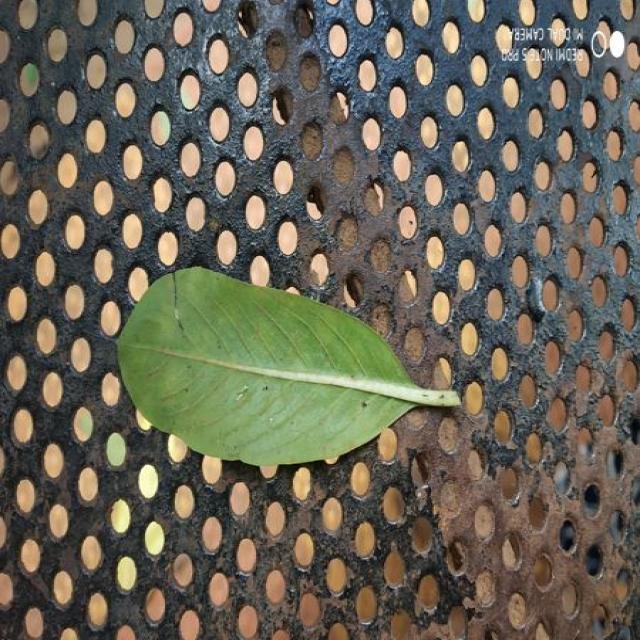catharanthus: (118, 268, 460, 467), (120, 269, 458, 465)
